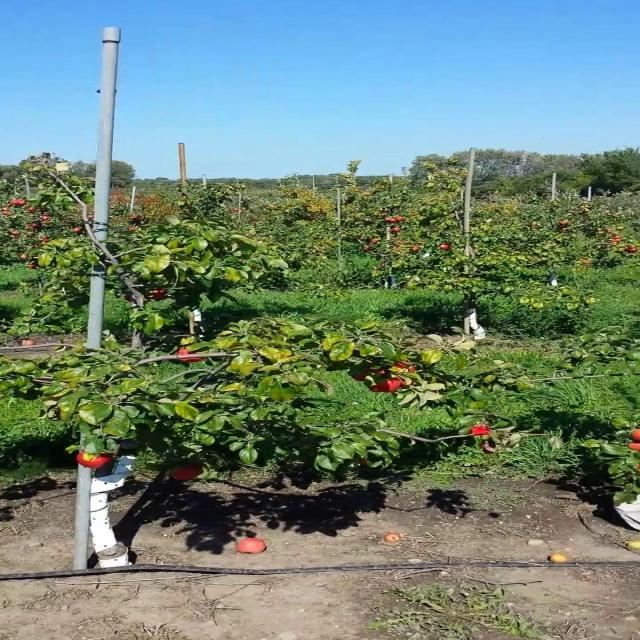apple: (76, 451, 111, 468), (171, 465, 202, 481), (369, 378, 404, 392), (353, 368, 387, 381), (393, 361, 416, 373), (480, 440, 498, 454), (149, 288, 167, 300), (471, 425, 491, 435), (351, 371, 369, 381), (351, 371, 369, 381), (627, 441, 640, 451), (176, 348, 191, 356), (631, 429, 640, 442), (122, 294, 136, 302), (369, 368, 387, 374), (180, 358, 204, 362)
